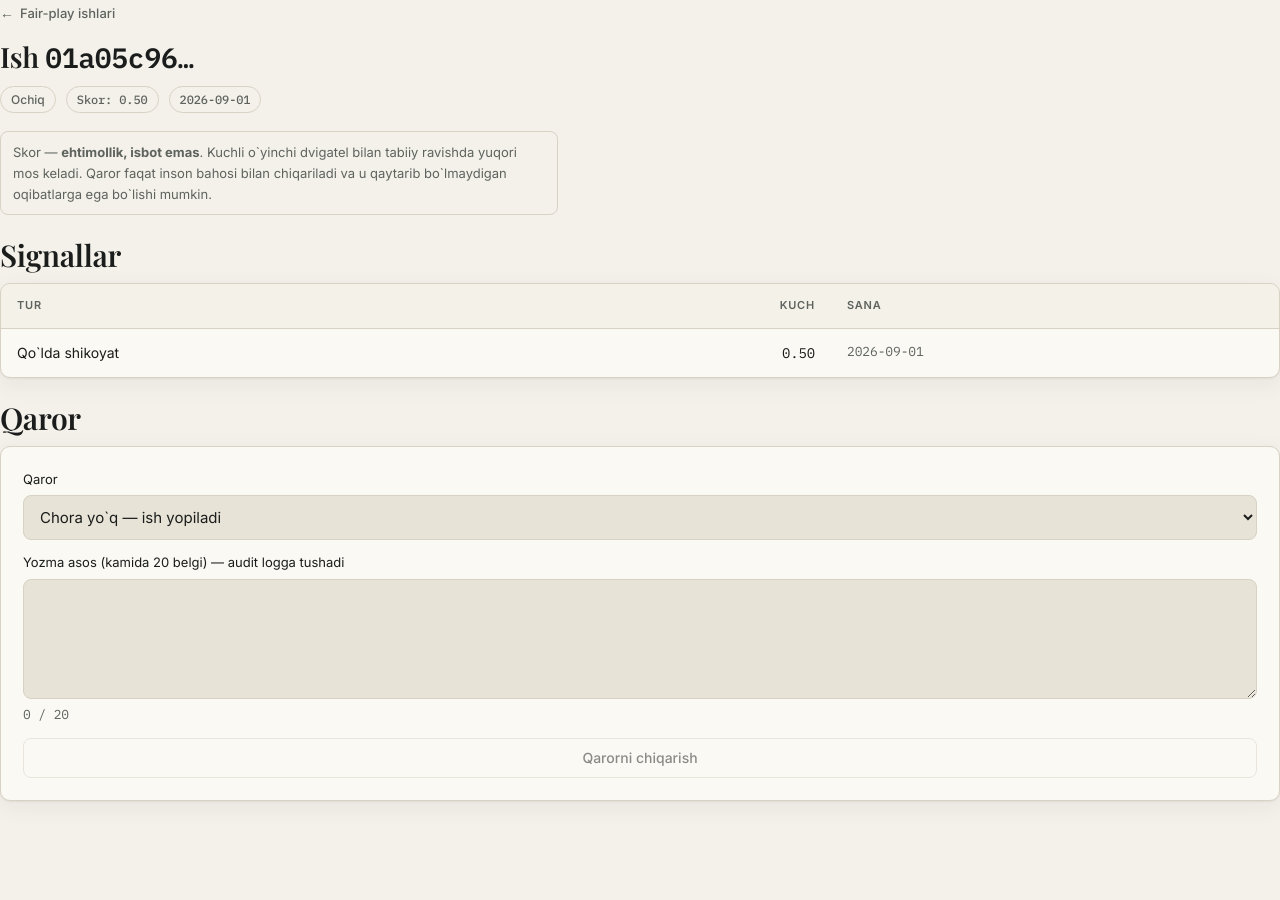
Test case: fair-play qaror formasi › sanksiya sanasi kiritilsa tugma ochiladi
Expected: the heading "Qaror" is shown, [0,398,81,438]
Step 1. Type "Dvigatel mosligi yuqori, uch bosqichda tasdiqlandi va apellyatsiya berilmadi." into the text box → (640, 639), box [23,579,1257,699]
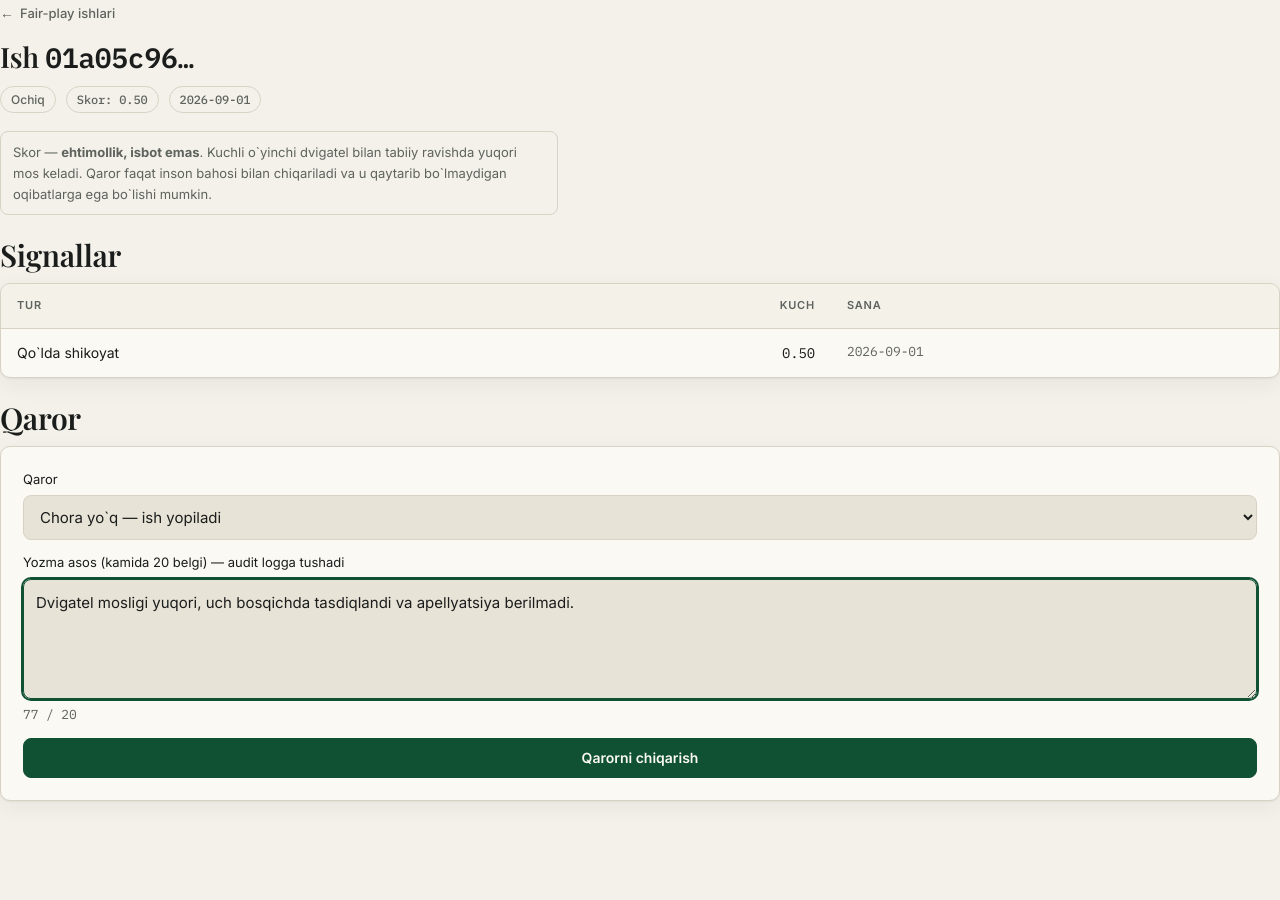
Step 2. Select "Sanksiya (muddat majburiy)" in the dropdown → (640, 518), box [23,495,1257,540]
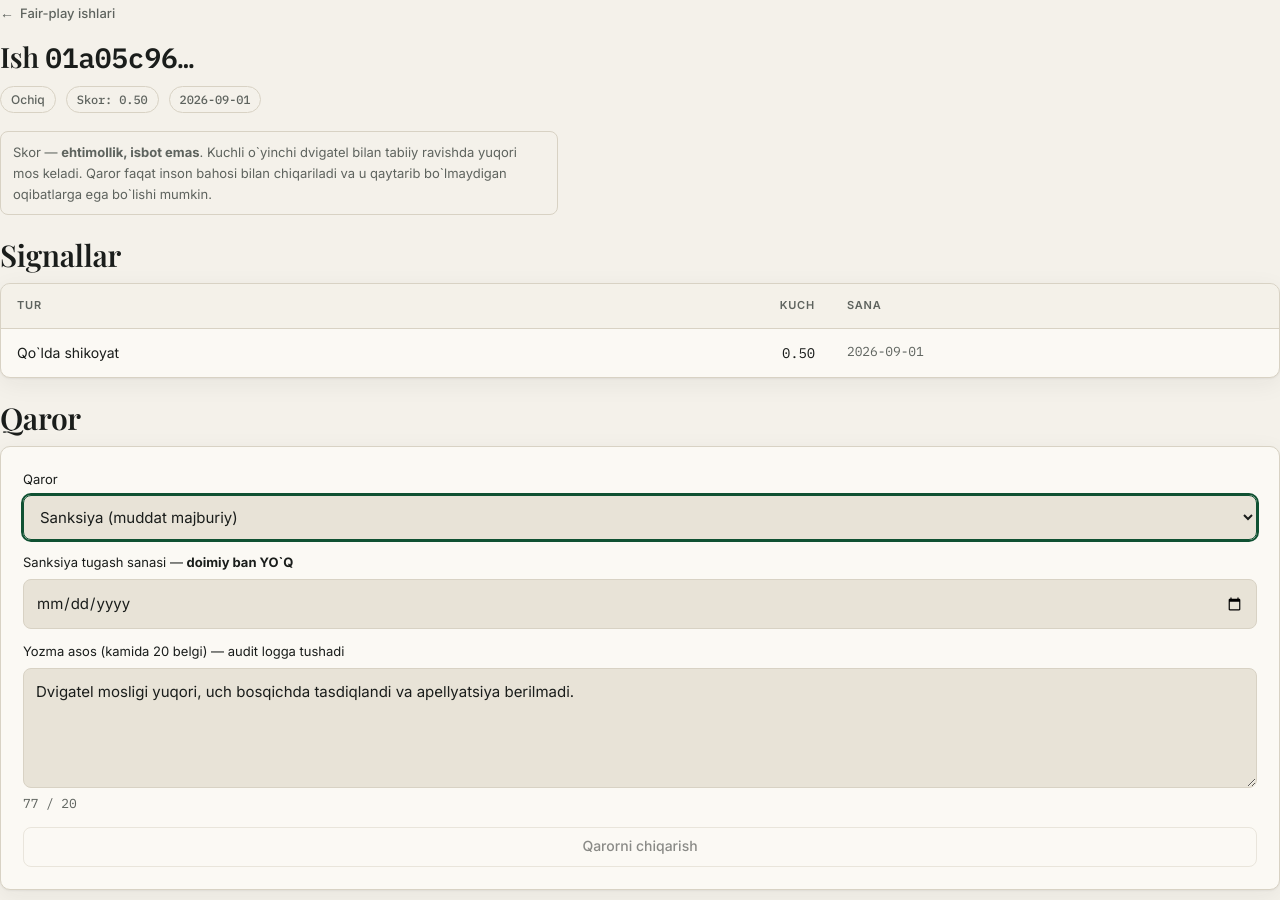
Expected: the date field labelled "Sanksiya tugash sanasi — doimiy ban YO`Q" is shown
Step 3. Type "2027-01-01" into the date field labelled "Sanksiya tugash sanasi — doimiy ban YO`Q" → (640, 604), box [23,579,1257,629]
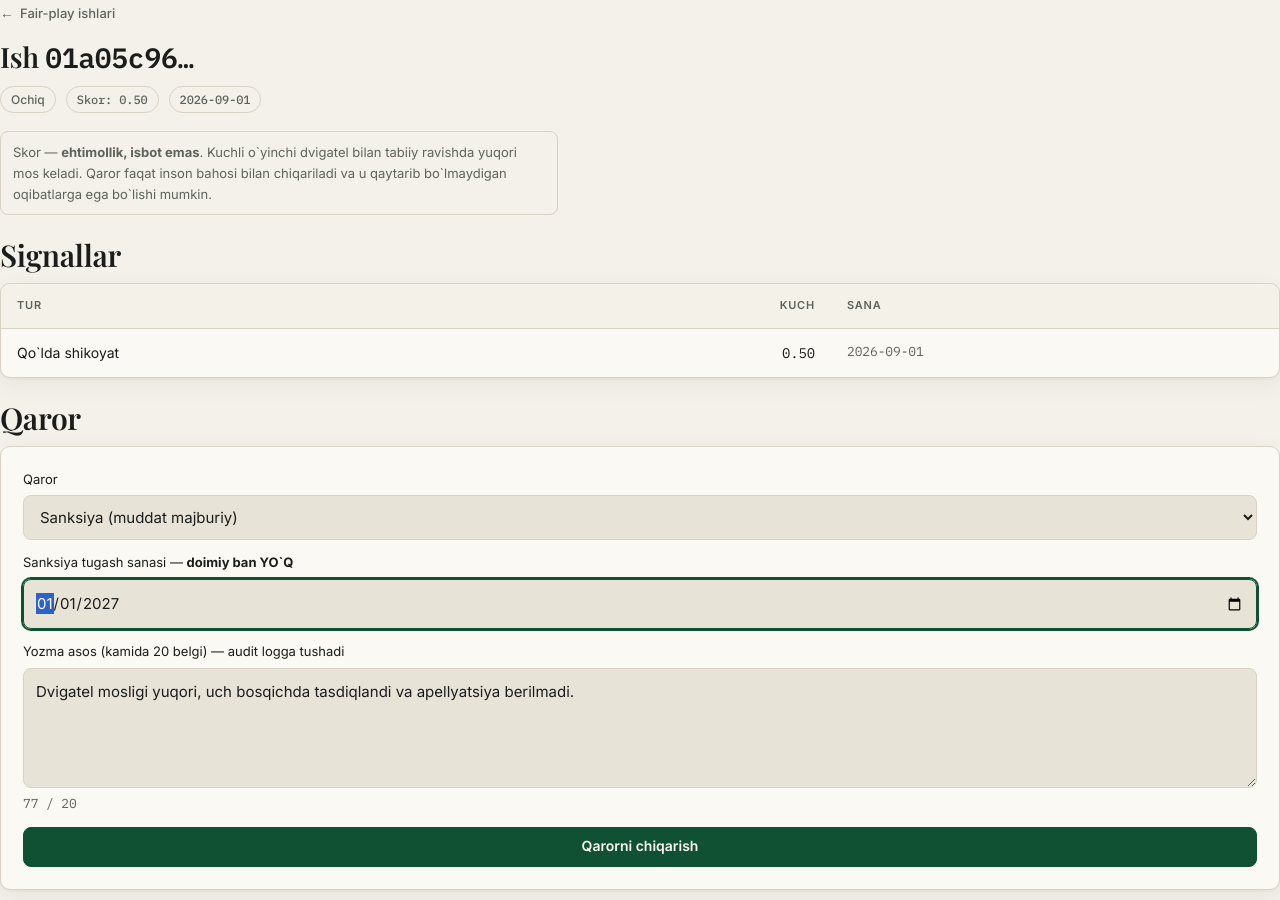
Expected: the button "Qarorni chiqarish" is enabled, [23,827,1257,867]
